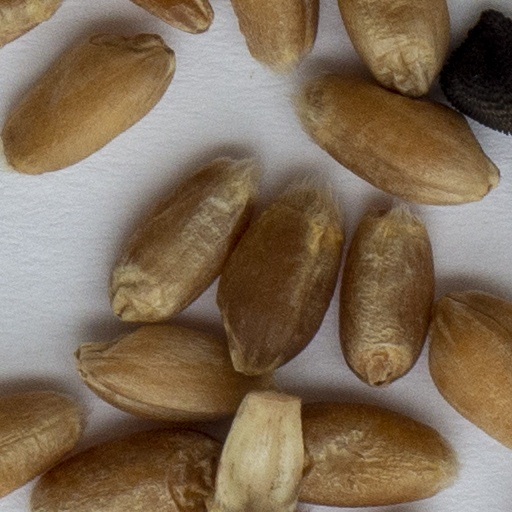Agrostemma-poly: (440, 0, 511, 136)
Peel-poly: (214, 389, 303, 511)
Wheat-grain-damaged-poly: (338, 0, 450, 95)
